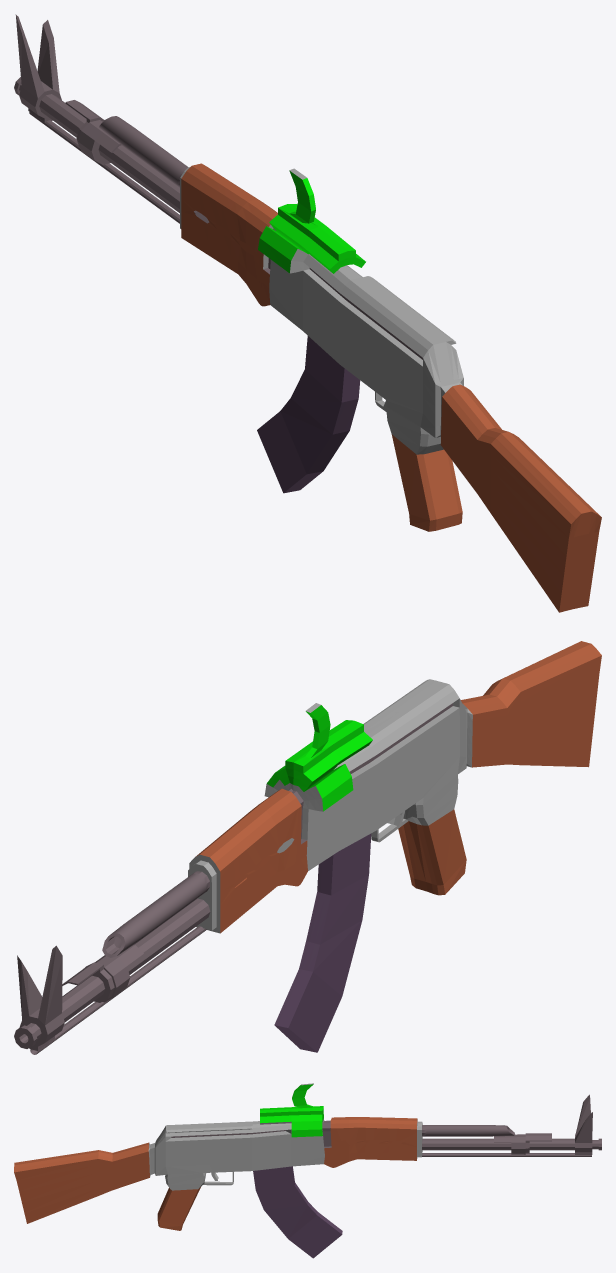
The model's file is gun-14058.fbx.
The picture shows the model from 3 angles, top to bottom: view 1: azimuth 30°, elevation 25°; view 2: azimuth 150°, elevation 25°; view 3: azimuth 270°, elevation 25°; orthographic projection. The views are drawn at different scales.
Parts seen in each view (by area): view 1: pCube1, pCylinder2, pCylinder1, pCylinder3; view 2: pCube1, pCylinder2, pCylinder1, pCylinder3; view 3: pCube1, pCylinder2, pCylinder1, pCylinder3.
Boxes of the visible parts, left/top/right/bottom form: pCube1: left=180, top=163, right=601, bottom=612; pCylinder2: left=14, top=14, right=209, bottom=223; pCylinder1: left=99, top=116, right=187, bottom=187; pCylinder3: left=29, top=112, right=179, bottom=223; pCube1: left=188, top=641, right=601, bottom=1052; pCylinder2: left=14, top=898, right=210, bottom=1050; pCylinder1: left=102, top=871, right=209, bottom=957; pCylinder3: left=30, top=926, right=206, bottom=1054; pCube1: left=14, top=1083, right=422, bottom=1258; pCylinder2: left=422, top=1094, right=601, bottom=1154; pCylinder1: left=422, top=1125, right=515, bottom=1136; pCylinder3: left=422, top=1153, right=591, bottom=1156.
Bounding box in the file's own units: 30.62 × 164 × 505.
